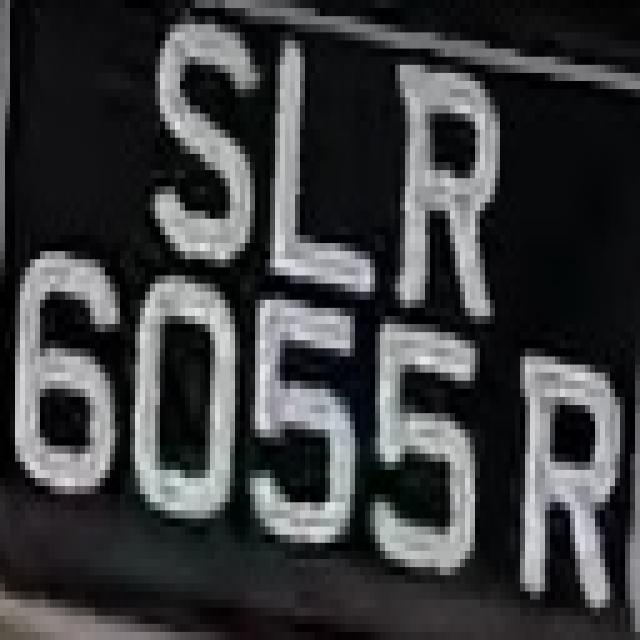0: (115, 259, 245, 535)
5: (240, 251, 370, 551), (360, 316, 485, 583)
6: (15, 202, 110, 534)
L: (250, 49, 390, 308)
R: (490, 308, 625, 624), (385, 32, 515, 324)
S: (140, 33, 255, 251)
